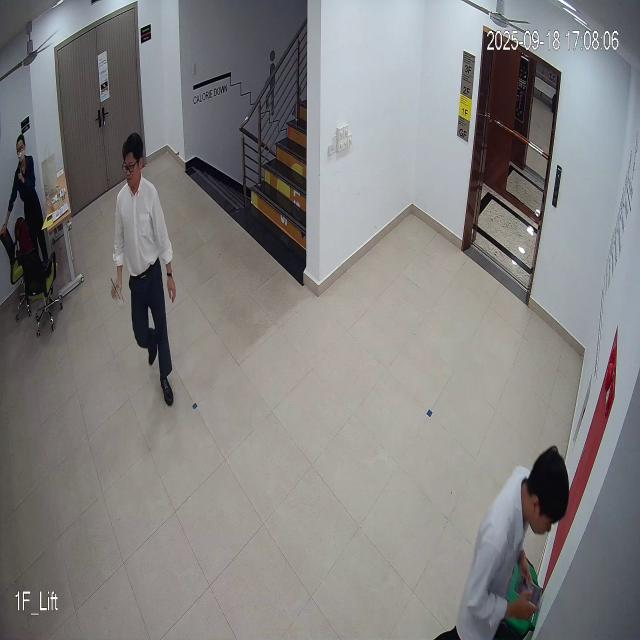face: (120, 128, 146, 191)
